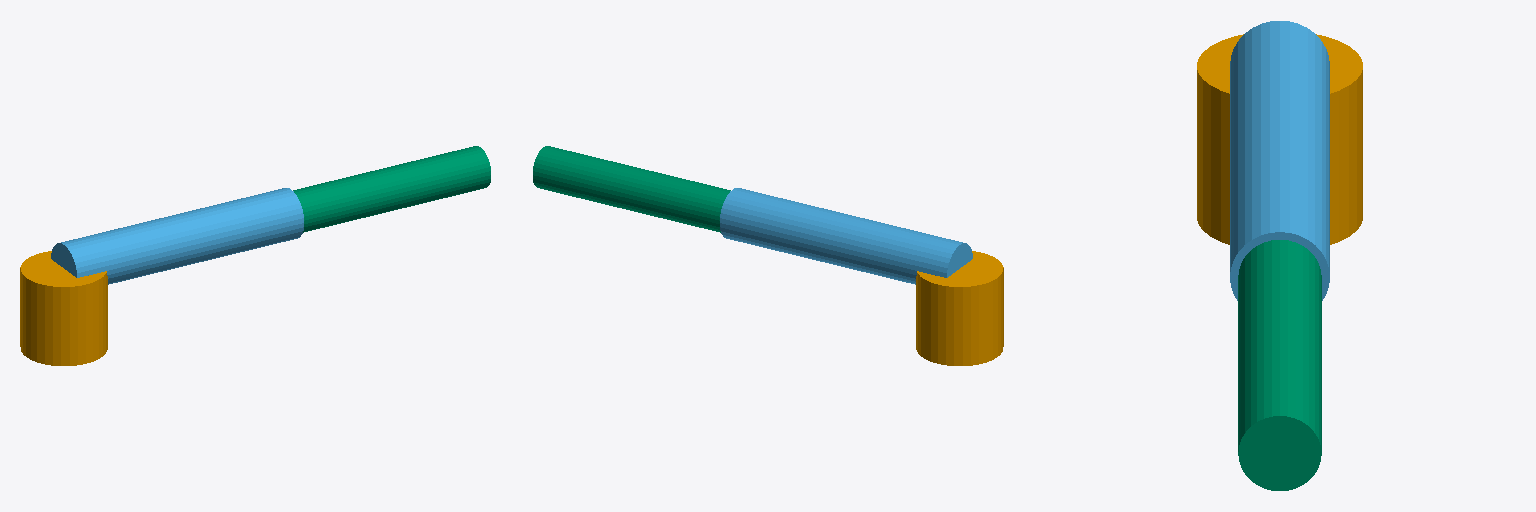
The robot description file, URDF, robot "two_link_arm":
<?xml version="1.0"?>
<!-- week02 수요일 실습: 2링크 팔 URDF (손으로 작성)
     - 두 관절 모두 y축 revolute(피치) → 수직 평면에서 중력의 영향을 받음
     - 링크는 x축 방향으로 뻗은 원통. 원통 기본축(z)을 rpy="0 1.5708 0"로 x축에 맞춤
     - 관성: 속이 찬 원통, 원통 자체 좌표계 기준
         Ixx = Iyy = m(3r^2 + L^2)/12,  Izz = m r^2 / 2
       link1: m=1.0, r=0.03, L=0.30 → Ixx=Iyy=0.0077250, Izz=0.00045
       link2: m=0.6, r=0.025, L=0.25 → Ixx=Iyy=0.0032188, Izz=0.0001875
     단위: m, kg, rad (URDF 규약) -->
<robot name="two_link_arm">

  <!-- 고정 베이스: 부모 joint가 없는 루트 링크 → MuJoCo에서는 world에 고정된 바디 -->
  <link name="base_link">
    <inertial>
      <origin xyz="0 0 0.05"/>
      <mass value="2.0"/>
      <inertia ixx="0.0029167" iyy="0.0029167" izz="0.0025" ixy="0" ixz="0" iyz="0"/>
    </inertial>
    <visual>
      <origin xyz="0 0 0.05"/>
      <geometry><cylinder radius="0.05" length="0.10"/></geometry>
    </visual>
    <!-- base_link collision 제거 (2026-09-29 뷰어 확인):
         어깨 관절이 베이스 원통 바로 위(z=0.10)에 있어 link1(반지름 0.03) 아랫면이 베이스 윗면과 겹침.
         MuJoCo는 월드에 고정된 부모(base_link)와 자식(link1) 사이 접촉을 걸러내지 않아
         어깨가 수평에서 떨어지지 않았음 (shoulder ≈ 0°, elbow ≈ 90°에서 정지).
         고정 베이스라 바닥 충돌이 필요 없고, 인접 링크 충돌은 보통 끄므로(Isaac Sim Self-Collision 기본 off) collision을 뺌 -->
  </link>

  <link name="link1">
    <inertial>
      <origin xyz="0.15 0 0" rpy="0 1.5708 0"/>
      <mass value="1.0"/>
      <inertia ixx="0.007725" iyy="0.007725" izz="0.00045" ixy="0" ixz="0" iyz="0"/>
    </inertial>
    <visual>
      <origin xyz="0.15 0 0" rpy="0 1.5708 0"/>
      <geometry><cylinder radius="0.03" length="0.30"/></geometry>
    </visual>
    <collision>
      <origin xyz="0.15 0 0" rpy="0 1.5708 0"/>
      <geometry><cylinder radius="0.03" length="0.30"/></geometry>
    </collision>
  </link>

  <link name="link2">
    <inertial>
      <origin xyz="0.125 0 0" rpy="0 1.5708 0"/>
      <mass value="0.6"/>
      <inertia ixx="0.0032188" iyy="0.0032188" izz="0.0001875" ixy="0" ixz="0" iyz="0"/>
    </inertial>
    <visual>
      <origin xyz="0.125 0 0" rpy="0 1.5708 0"/>
      <geometry><cylinder radius="0.025" length="0.25"/></geometry>
    </visual>
    <collision>
      <origin xyz="0.125 0 0" rpy="0 1.5708 0"/>
      <geometry><cylinder radius="0.025" length="0.25"/></geometry>
    </collision>
  </link>

  <!-- 말단(툴) 프레임: fixed joint로만 붙은 질량 없는 링크 -->
  <link name="tool0"/>

  <!-- joint origin: 부모 링크 좌표계에서 본 자식 링크 좌표계의 위치·자세
       joint axis : 자식 링크(=joint) 좌표계 기준 회전축 -->
  <joint name="shoulder" type="revolute">
    <parent link="base_link"/>
    <child link="link1"/>
    <origin xyz="0 0 0.10" rpy="0 0 0"/>
    <axis xyz="0 1 0"/>
    <limit lower="-1.5708" upper="1.5708" effort="40" velocity="3.0"/>
    <dynamics damping="0.05" friction="0.0"/>
  </joint>

  <joint name="elbow" type="revolute">
    <parent link="link1"/>
    <child link="link2"/>
    <origin xyz="0.30 0 0" rpy="0 0 0"/>
    <axis xyz="0 1 0"/>
    <limit lower="-2.3562" upper="2.3562" effort="20" velocity="3.0"/>
    <dynamics damping="0.05" friction="0.0"/>
  </joint>

  <joint name="tool_joint" type="fixed">
    <parent link="link2"/>
    <child link="tool0"/>
    <origin xyz="0.25 0 0"/>
  </joint>
</robot>

--- Render facts (derived) ---
Views: 3 orthographic renders of the robot side by side, from view 1: azimuth 30°, elevation 25°; view 2: azimuth 150°, elevation 25°; view 3: azimuth 270°, elevation 25°.
Robot: two_link_arm — 4 links, 3 joints (2 revolute, 1 fixed); root link base_link; default pose: every joint at zero.
Visible links, largest first — view 1: link1, base_link, link2; view 2: link1, base_link, link2; view 3: link1, link2, base_link.
Boxes of the visible links, left/top/right/bottom form: link1: left=51, top=188, right=303, bottom=284; base_link: left=20, top=251, right=107, bottom=365; link2: left=293, top=146, right=490, bottom=232; link1: left=720, top=188, right=972, bottom=284; base_link: left=916, top=251, right=1003, bottom=365; link2: left=533, top=146, right=730, bottom=232; link1: left=1230, top=21, right=1329, bottom=300; link2: left=1238, top=240, right=1321, bottom=490; base_link: left=1197, top=34, right=1362, bottom=244.
Bounding box of the posed robot: 0.6 × 0.1 × 0.13 m (x, y, z).
Geometry: primitives only (box / cylinder / sphere), no mesh files.
